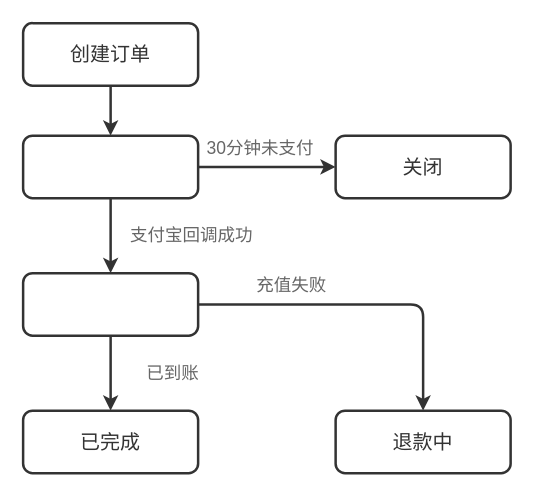
Some shapes in this 533 by 495 pixel diagram are drawn without their labels. The shapes that lost their labels are listed below. From the top down, each one's centre as x and y in pixels, then its label:
At point 110,166: "待支付".
At point 110,303: "已支付".
